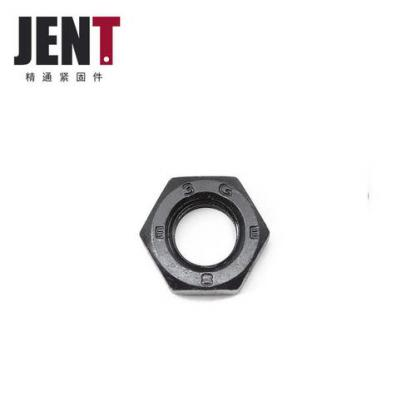FOD: (133, 175, 271, 298)
